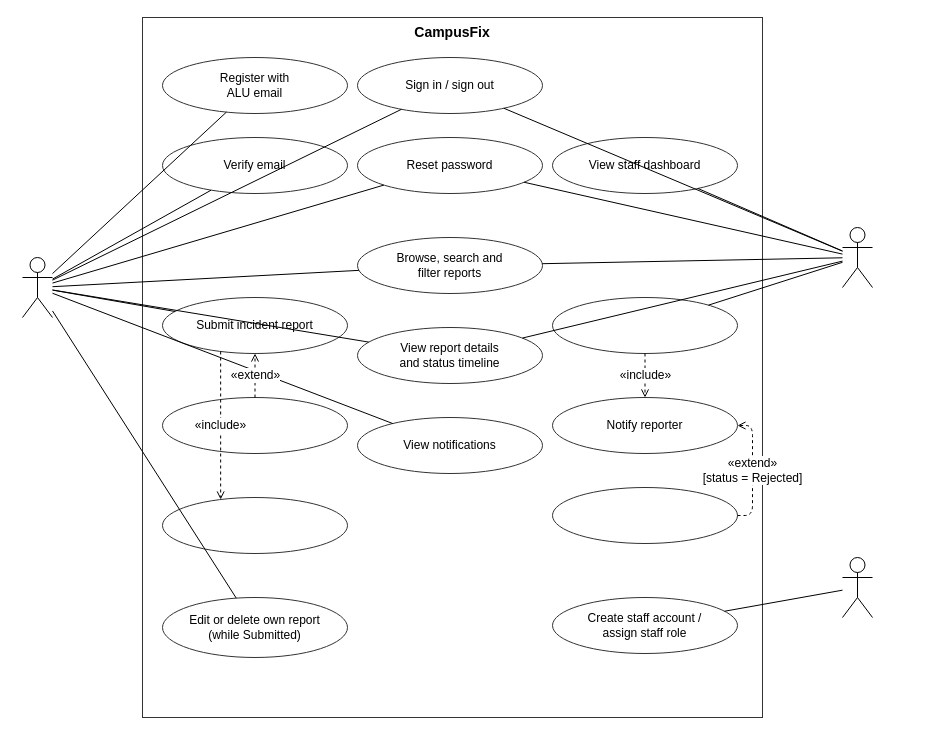
Image size: 926x735. Some labels were removed from this diagram. Here are the shapes that lost their labels. From the top down, the box of each, then its label:
(842, 226, 872, 288): Staff
(22, 256, 52, 318): Student
(552, 296, 738, 354): Update report status
(162, 396, 348, 454): Attach photo
(162, 496, 348, 554): Choose category and building
(552, 486, 738, 544): Give reason for rejection
(842, 556, 872, 618): Admin (Firebase Console)
